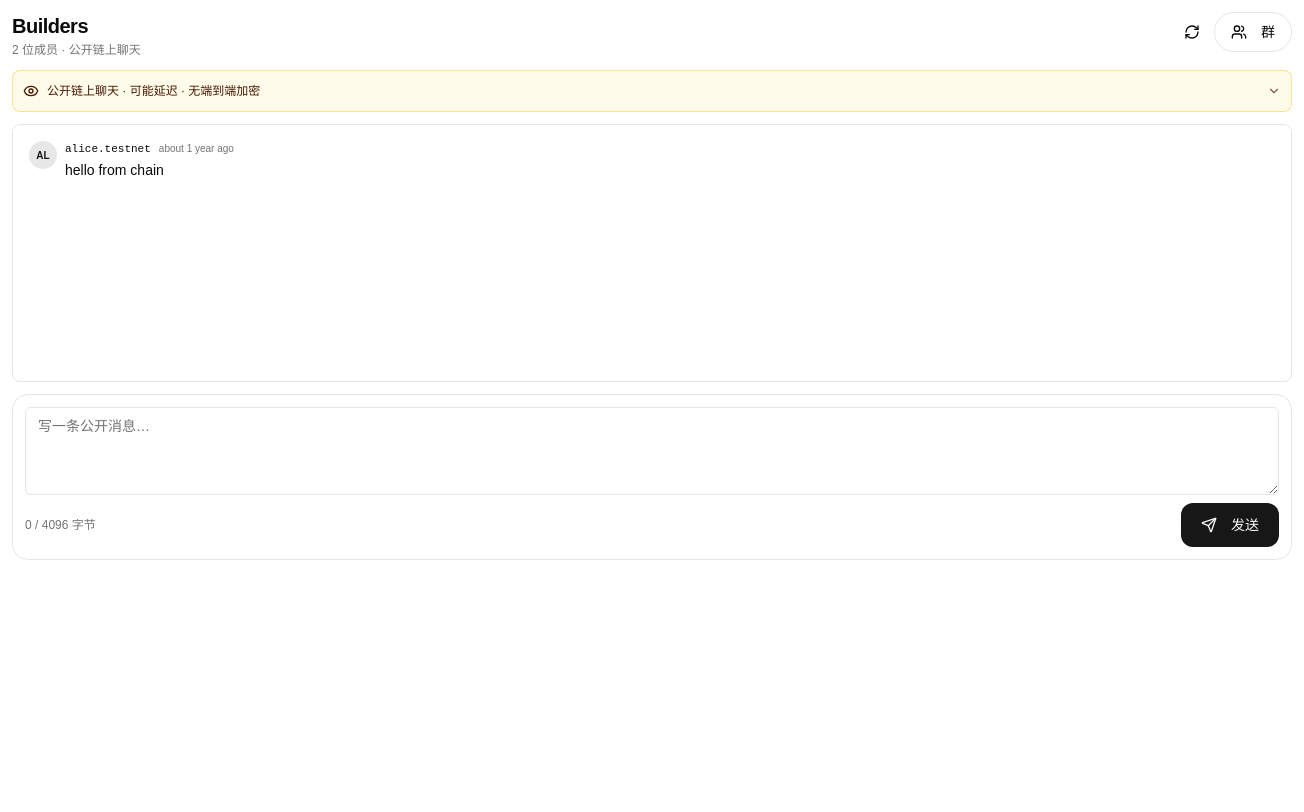
Test: public chat › expands the privacy notice to public log and no-E2E copy
Click the button "公开链上聊天 · 可能延迟 · 无端到端加密" at (154, 91), box [12, 70, 1292, 112]
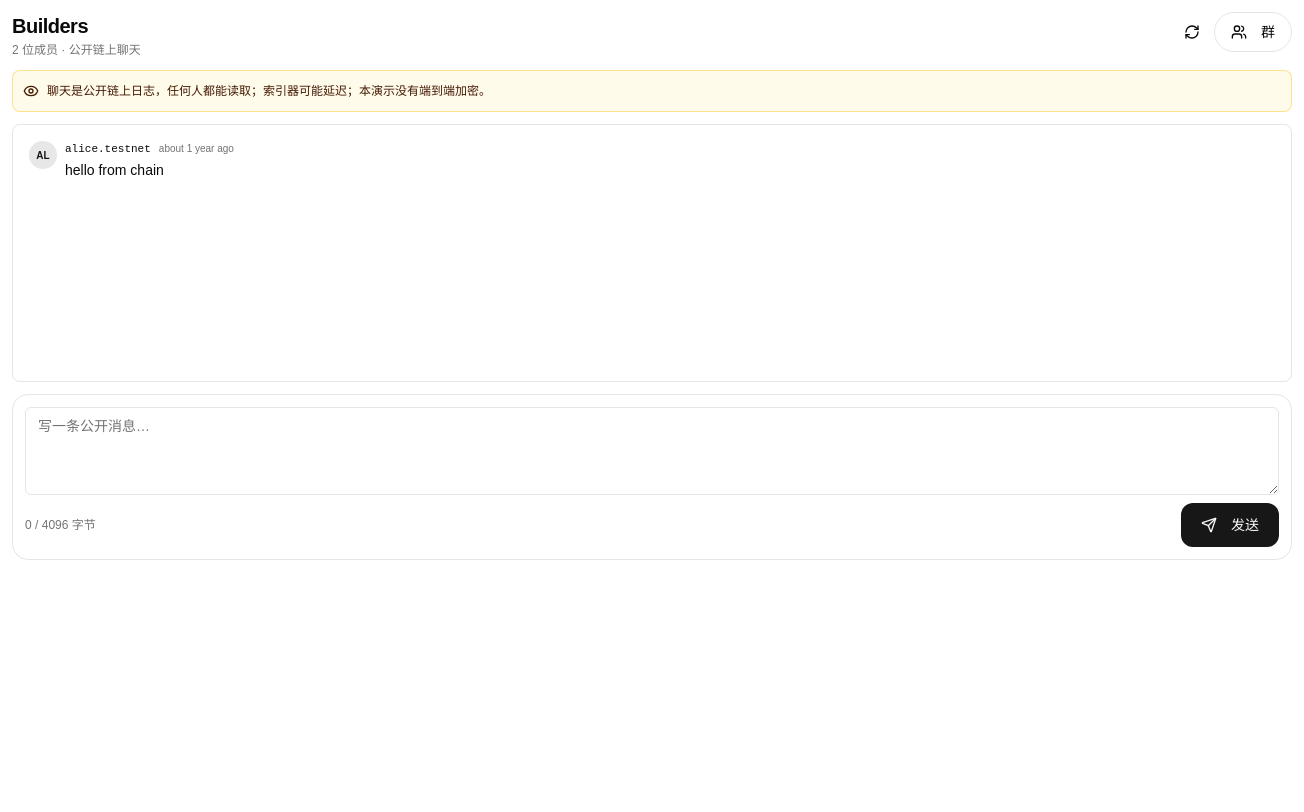
Expected: the text "聊天是公开链上日志，任何人都能读取；索引器可能延迟；本演示没有端到端加密。" is shown, [47, 84, 491, 98]
